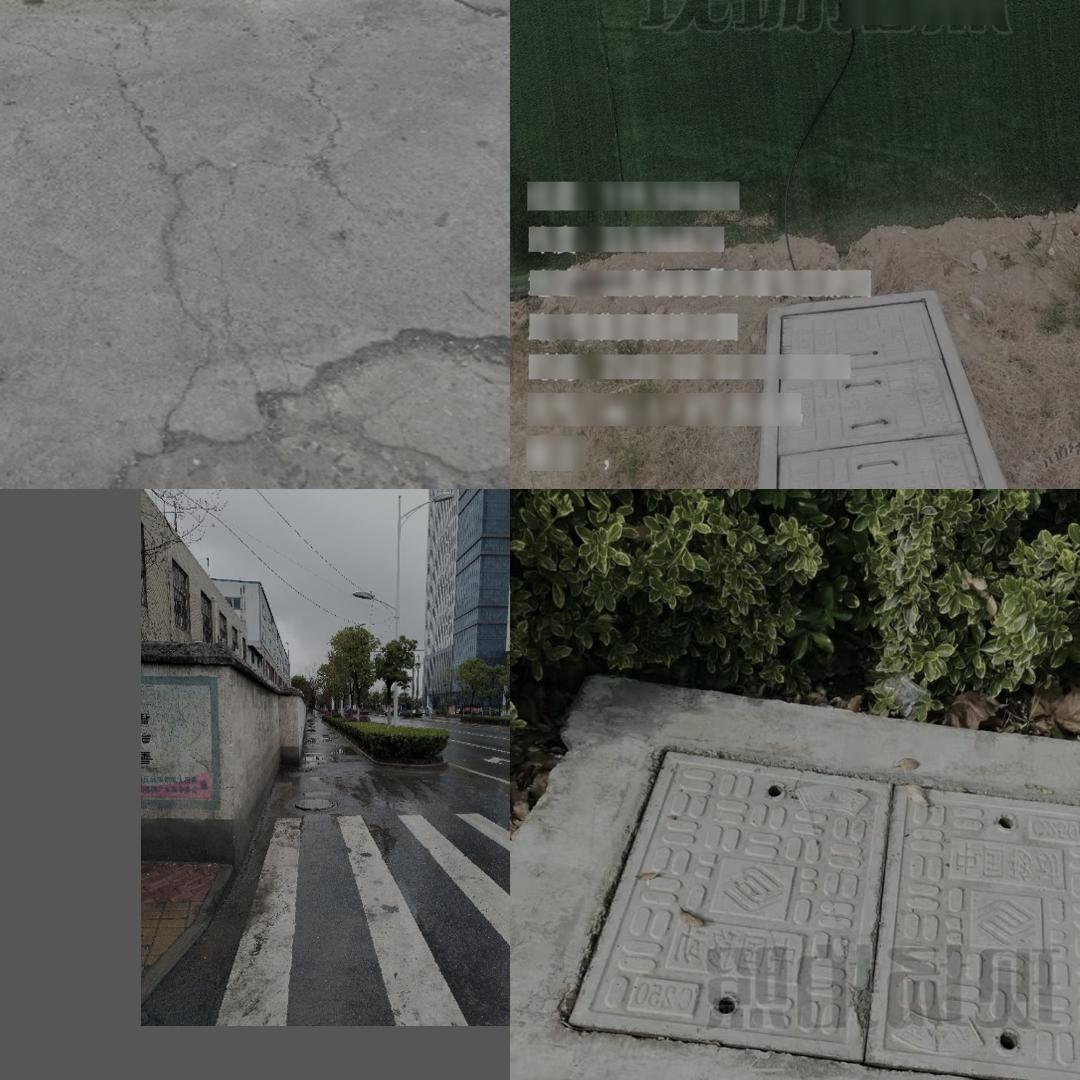good: (563, 743, 1080, 1080), (754, 286, 1006, 489), (277, 771, 356, 834)
